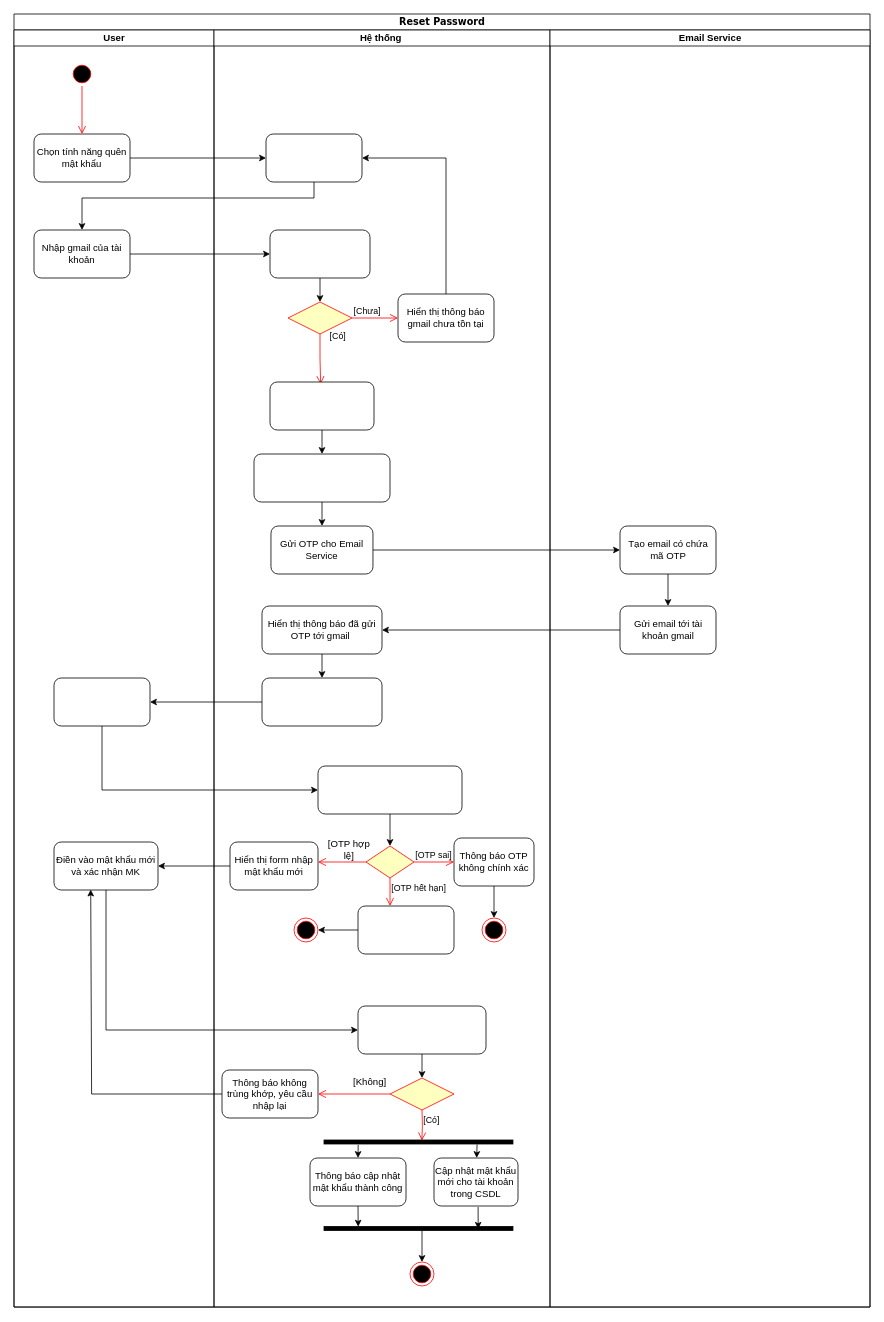
Image size: 884x1322. Some labels were removed from this diagram. Each missing label, with the centre of its shape:
"Hiển thị Form lấy lại mật khẩu" belongs at point (313, 157).
"Hiển thị form nhập mã OTP" belongs at point (321, 701).
"Kiểm tra gmail đã tồn tại trong CSDL" belongs at point (319, 253).
"Kiểm tra mật khẩu xác nhận trùng mật khẩu mới" belongs at point (421, 1029).
"Kiểm tra tính hợp lệ của OTP" belongs at point (389, 789).
"Lưu OTP cho tài khoản vào CSDL" belongs at point (321, 477).
"Nhập mã OTP" belongs at point (101, 701).
"Sinh mã OTP ngẫu nhiên" belongs at point (321, 405).
"Thông báo OTP đã hết hạn" belongs at point (405, 929).
